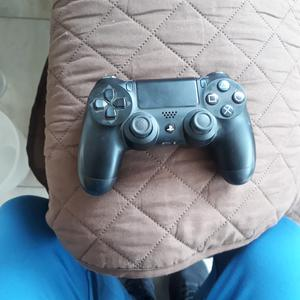controller: (78, 72, 255, 195)
